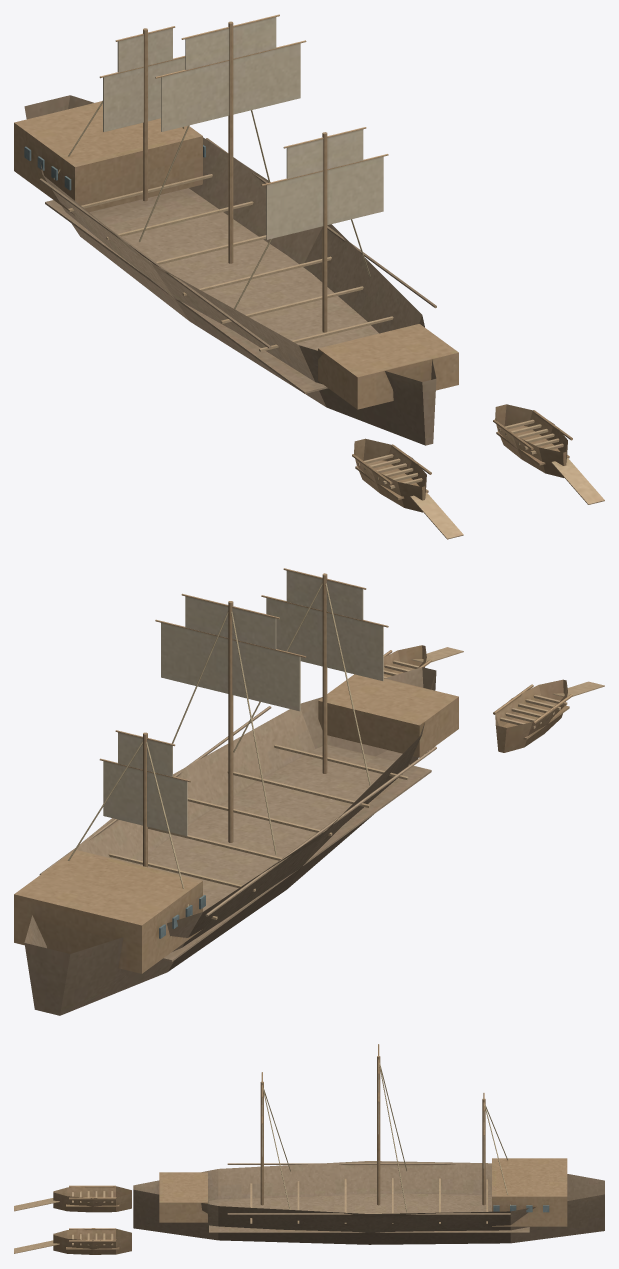
File: landing-middle.glb
3 views of the same model, one above another, from view 1: azimuth 30°, elevation 25°; view 2: azimuth 150°, elevation 25°; view 3: azimuth 270°, elevation 25° (orthographic). The views are drawn at different scales.
Visible parts, largest first — view 1: LOD0; view 2: LOD0; view 3: LOD0.
Part boxes in pixels (left/top/right/bottom): LOD0: left=14, top=14, right=604, bottom=539; LOD0: left=14, top=568, right=604, bottom=1015; LOD0: left=14, top=1044, right=604, bottom=1254.
Size of what is drawn, in the model's own units: 0.8299 by 1.22 by 3.76.
Materials: 2 (2 with a texture image).
